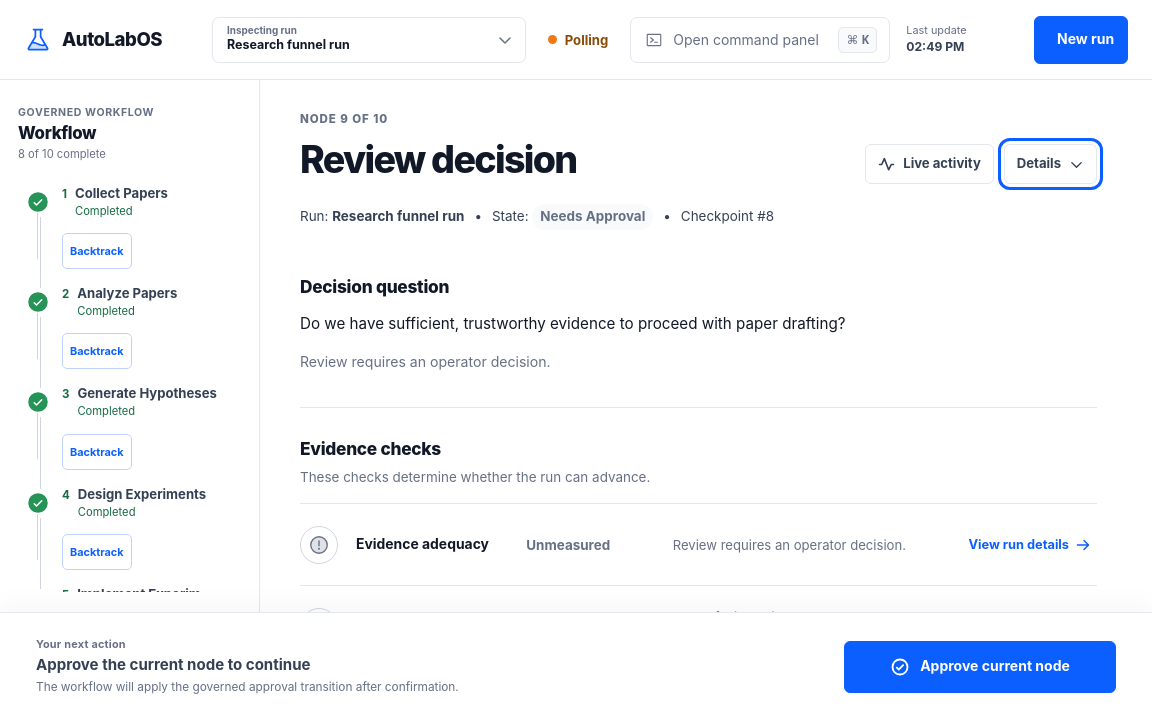
Test: App › shows a collection failure instead of stale probe authorization
Click the button "Details" at (1050, 164), box [1004,144,1097,184]
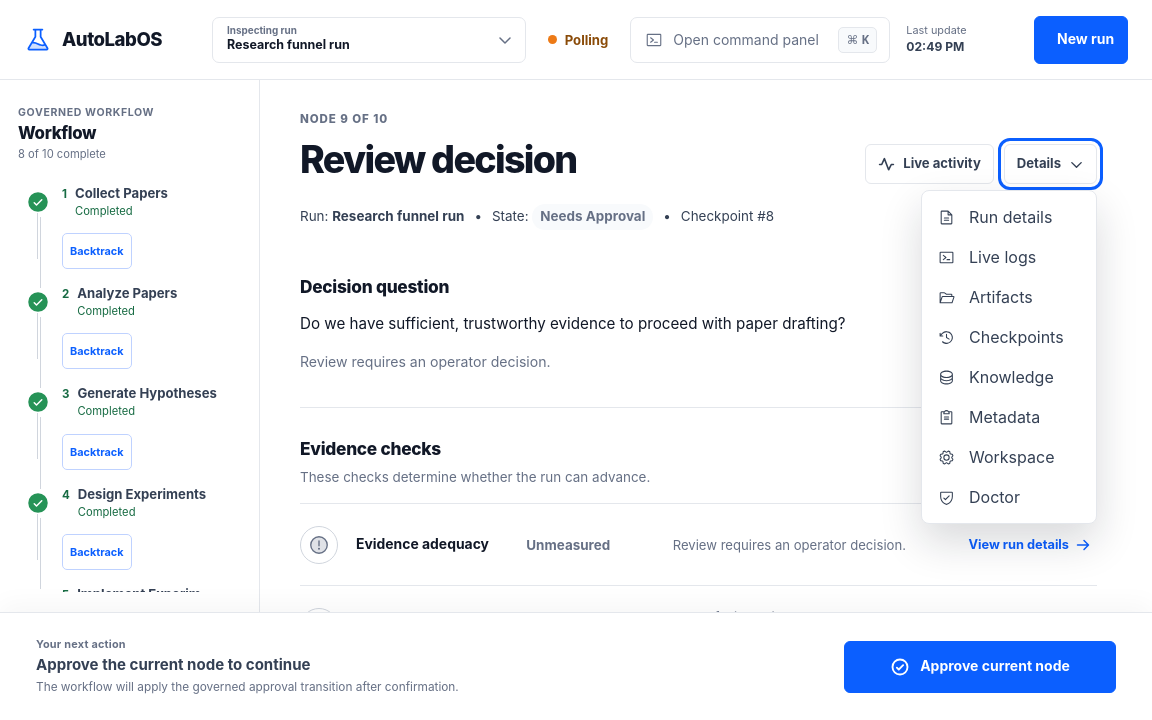
Click the button "Run details" at (1009, 217), box [928,197,1090,237]
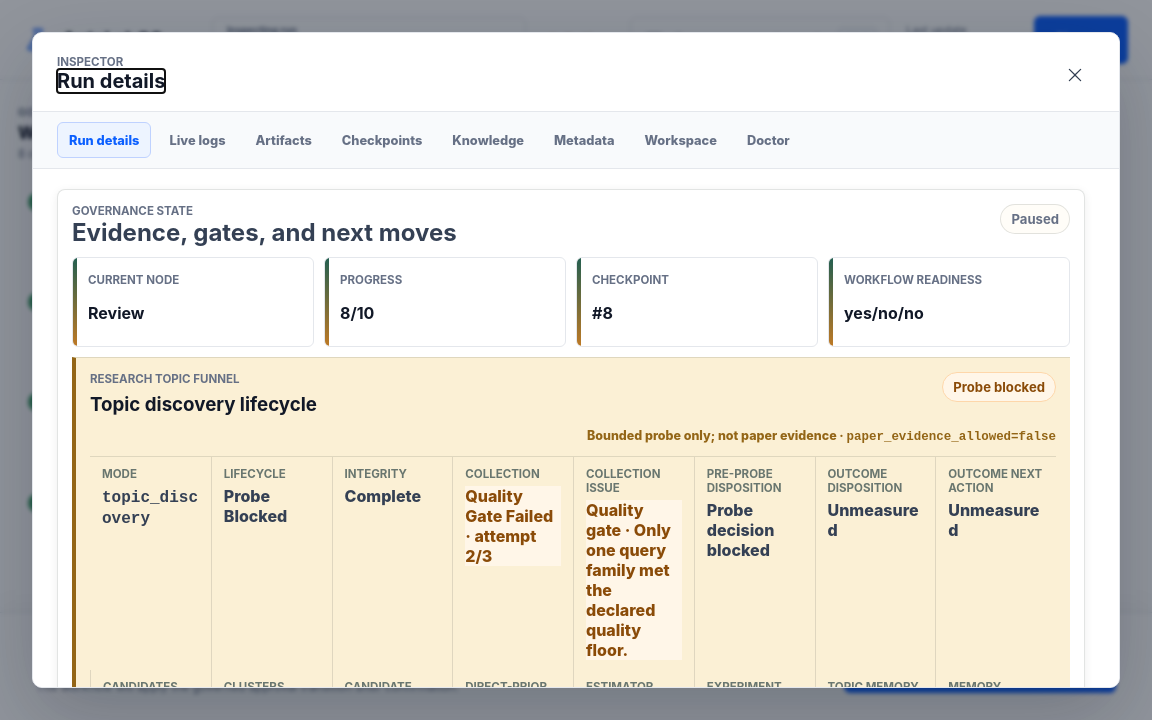
Expected: the text "Quality Gate Failed · attempt 2/3" is shown, [465,486,561,566]
Expected: the text "Quality gate · Only one query family" is shown, [586,500,671,660]
Expected: the text "Probe blocked" is shown, [942,372,1056,402]
